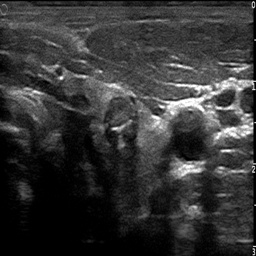mass: (103, 96, 141, 147)
